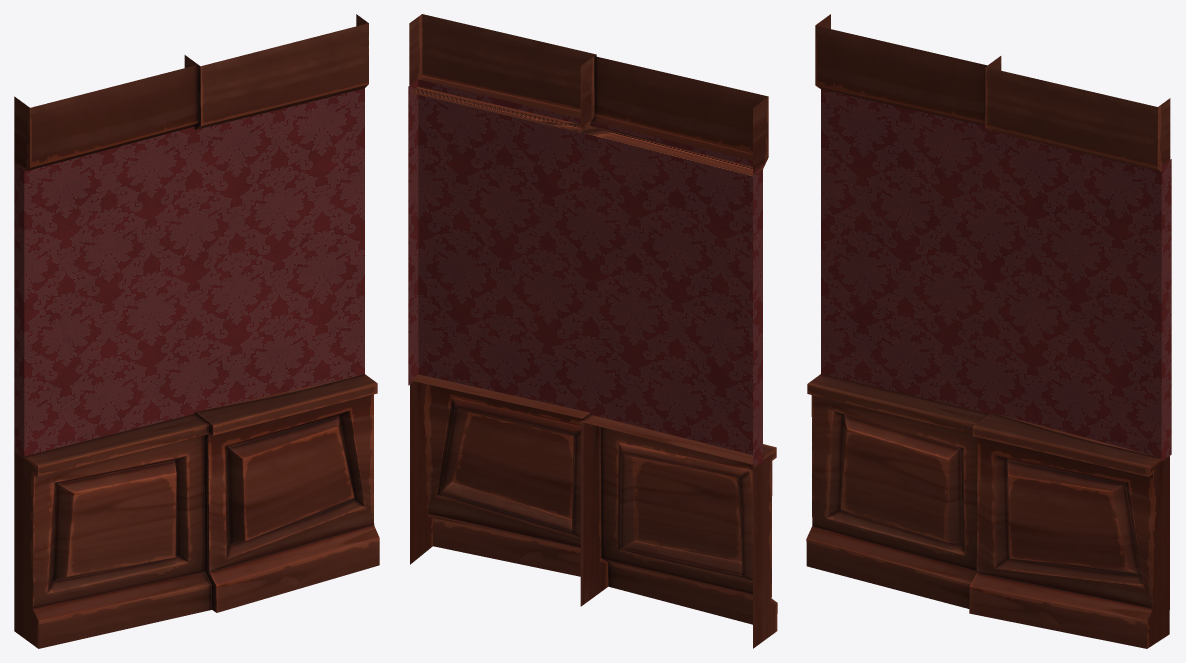
The model's file is Wall_01.FBX.
3 views of the same model, side by side, from view 1: azimuth 30°, elevation 25°; view 2: azimuth 150°, elevation 25°; view 3: azimuth 330°, elevation 25° (orthographic).
Parts seen in each view (by area): view 1: Plane002; view 2: Plane002; view 3: Plane002.
Part boxes in pixels (box(x1,y1,x2,y2)): Plane002: box(14, 14, 379, 648); Plane002: box(408, 14, 777, 648); Plane002: box(806, 14, 1171, 648).
Size of the model in its own units: 200 by 301 by 32.33.
